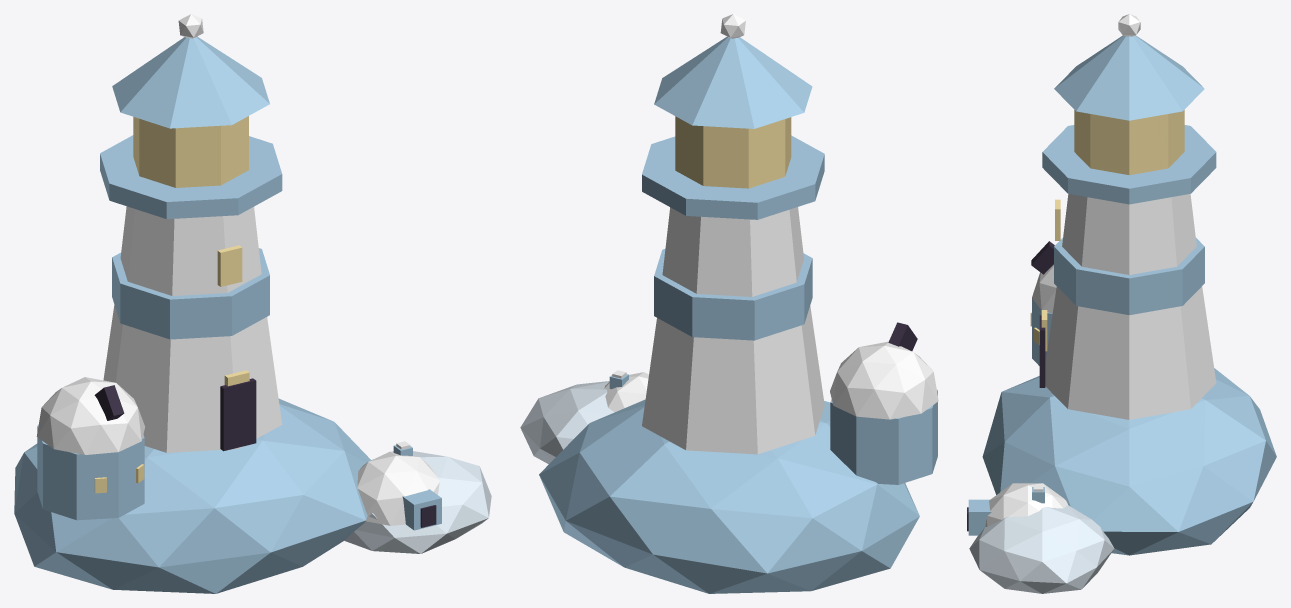
File: ice-landmark-s3.glb
3 renders of one model, left to right at view 1: azimuth 30°, elevation 25°; view 2: azimuth 150°, elevation 25°; view 3: azimuth 270°, elevation 25°, orthographic. The views are drawn at different scales.
Parts seen in each view (by area): view 1: ice-landmark-s3; view 2: ice-landmark-s3; view 3: ice-landmark-s3.
Boxes of the visible parts, x1,y1,x2,y2 form: ice-landmark-s3: (14, 14, 491, 593); ice-landmark-s3: (520, 14, 938, 593); ice-landmark-s3: (967, 14, 1276, 593).
Size of the model in its own units: 1.54 by 1.81 by 1.07.
